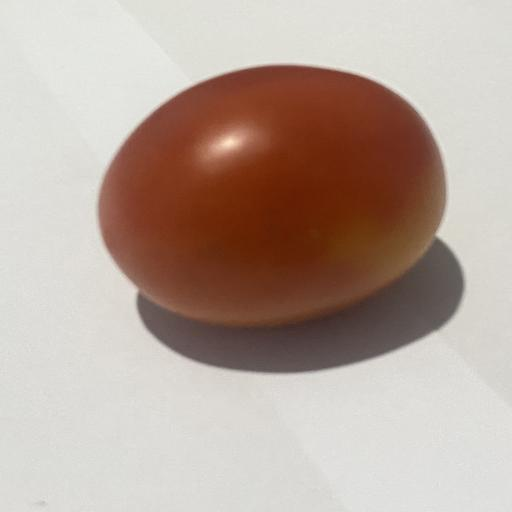ripe: (99, 65, 445, 325)
